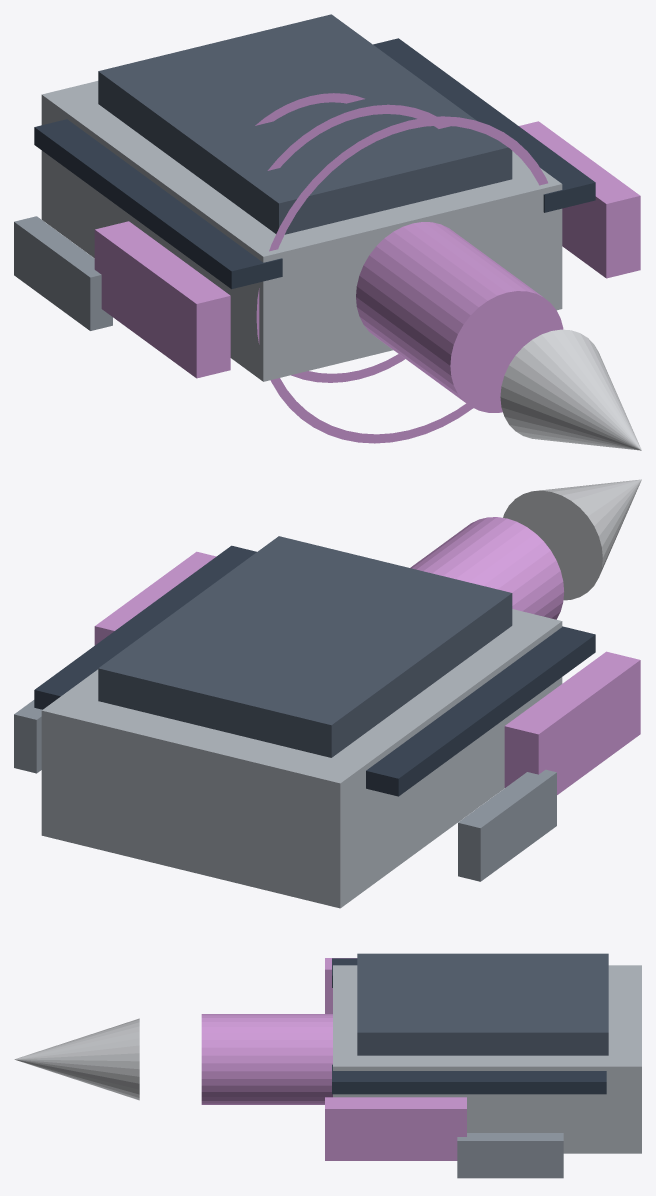
The model's file is raio-celeste.glb.
3 views of the same model, one above another, from view 1: azimuth 30°, elevation 25°; view 2: azimuth 150°, elevation 25°; view 3: azimuth 270°, elevation 25° (orthographic). The views are drawn at different scales.
Visible parts, largest first — view 1: part001, part000, part002, part005, part003, part004, part008, part006, part007, part013, part012, part011; view 2: part000, part001, part005, part004, part002, part003, part006, part007, part008, part009; view 3: part001, part000, part002, part008, part007, part003, part009, part005.
Boxes of the visible parts, left/top/right/bottom form: part001: left=98, top=14, right=512, bottom=234; part000: left=41, top=81, right=562, bottom=381; part002: left=356, top=222, right=563, bottom=412; part005: left=94, top=221, right=230, bottom=378; part003: left=500, top=329, right=641, bottom=450; part004: left=34, top=119, right=282, bottom=289; part008: left=519, top=121, right=640, bottom=278; part006: left=14, top=216, right=112, bottom=330; part007: left=373, top=38, right=595, bottom=212; part013: left=256, top=116, right=547, bottom=443; part012: left=267, top=104, right=450, bottom=382; part011: left=255, top=93, right=364, bottom=125; part000: left=41, top=609, right=562, bottom=908; part001: left=98, top=536, right=512, bottom=757; part005: left=504, top=651, right=640, bottom=794; part004: left=366, top=626, right=595, bottom=796; part002: left=410, top=517, right=563, bottom=619; part003: left=503, top=479, right=641, bottom=600; part006: left=458, top=769, right=556, bottom=881; part007: left=34, top=545, right=256, bottom=709; part008: left=94, top=551, right=216, bottom=645; part009: left=14, top=700, right=42, bottom=773; part001: left=357, top=953, right=608, bottom=1055; part000: left=333, top=965, right=641, bottom=1153; part002: left=201, top=1014, right=332, bottom=1104; part008: left=325, top=1097, right=466, bottom=1160; part007: left=332, top=1064, right=606, bottom=1094; part003: left=14, top=1018, right=139, bottom=1100; part009: left=457, top=1133, right=563, bottom=1178; part005: left=325, top=958, right=356, bottom=1013.
Size of the model in its own units: 1.64 by 1.07 by 2.75.
